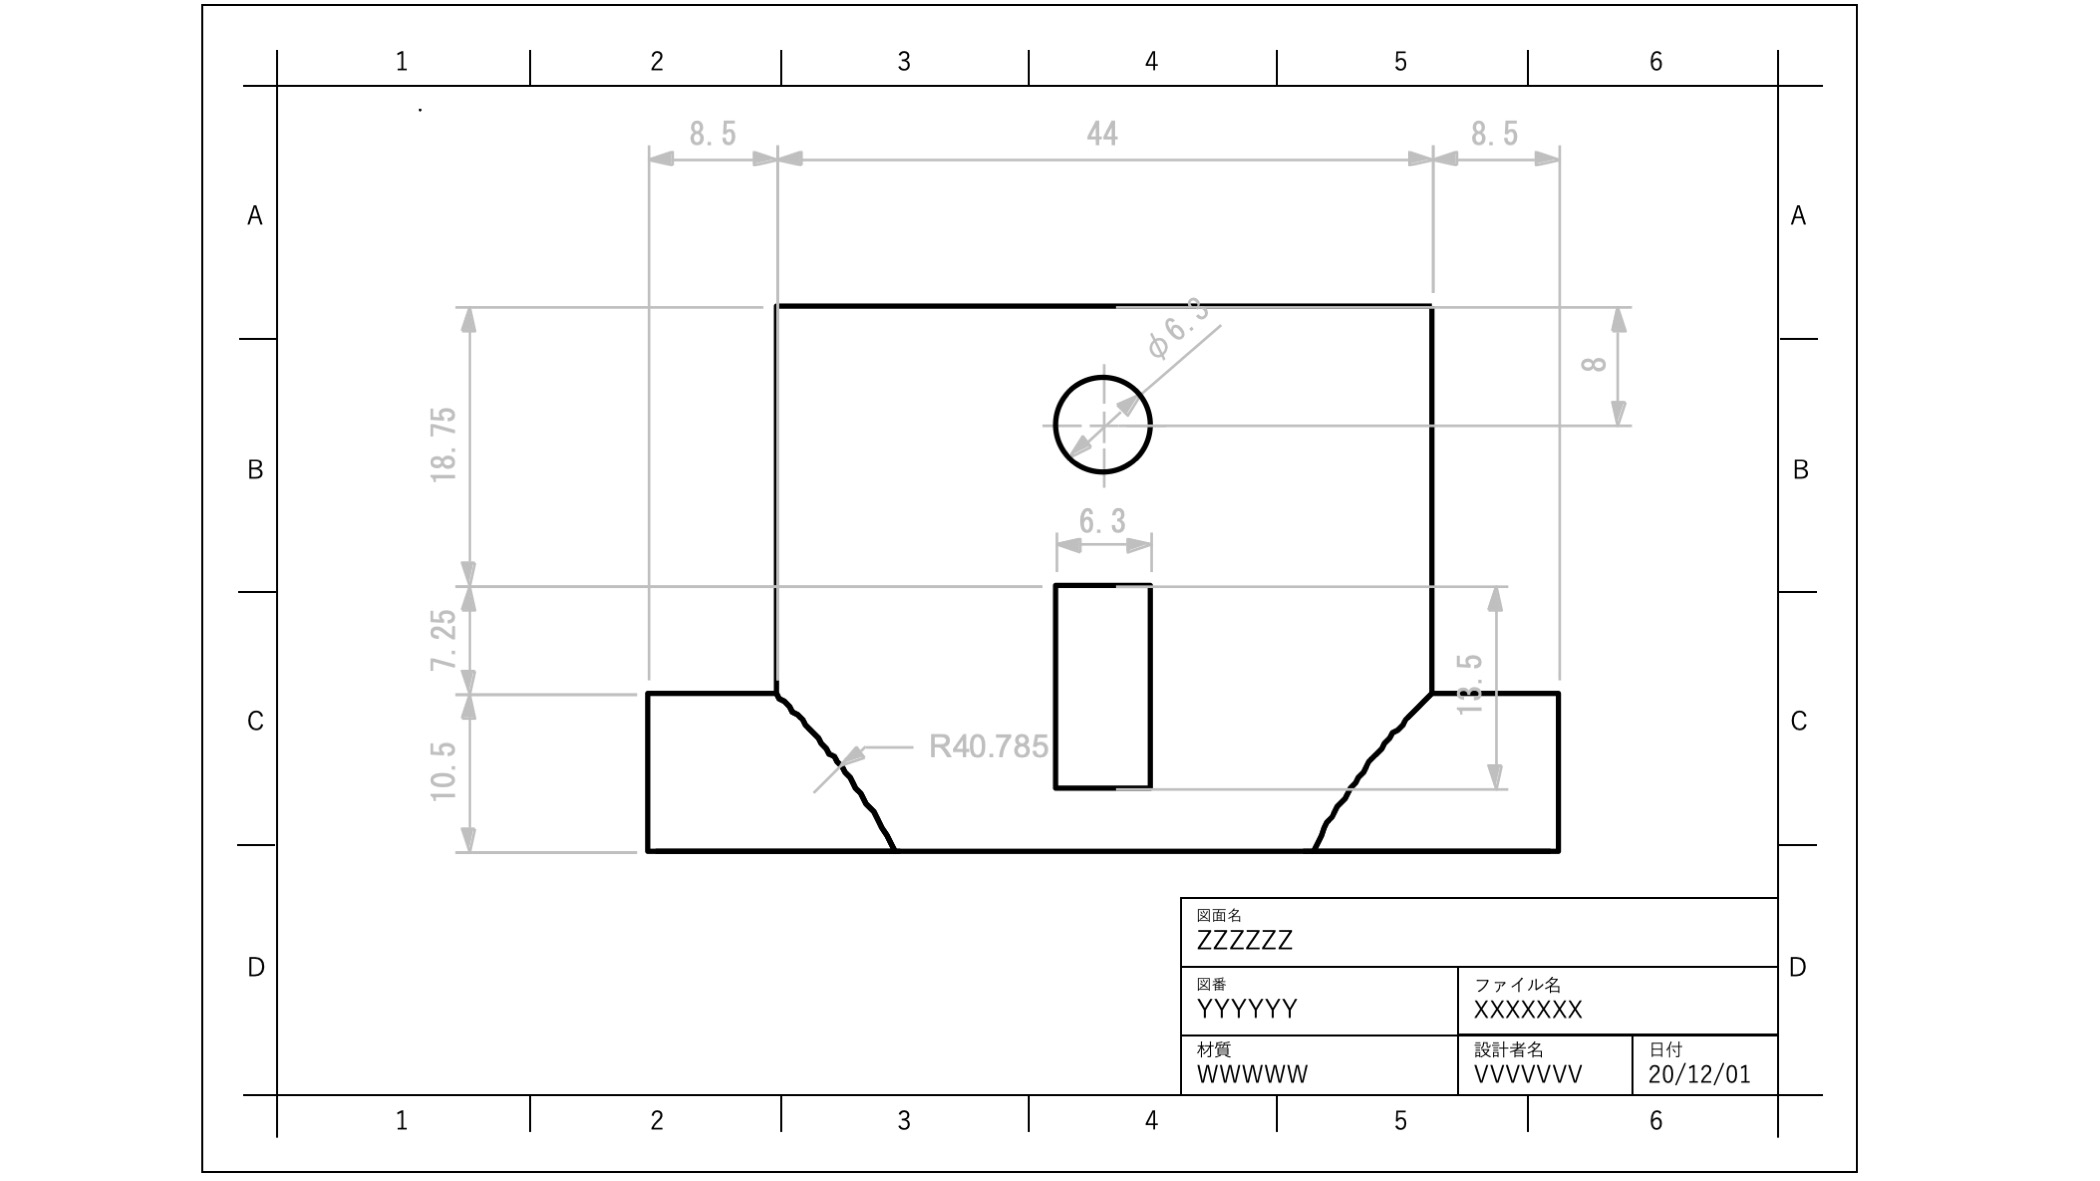circle: (1037, 366, 1165, 474)
rectangle: (1049, 568, 1161, 805)
